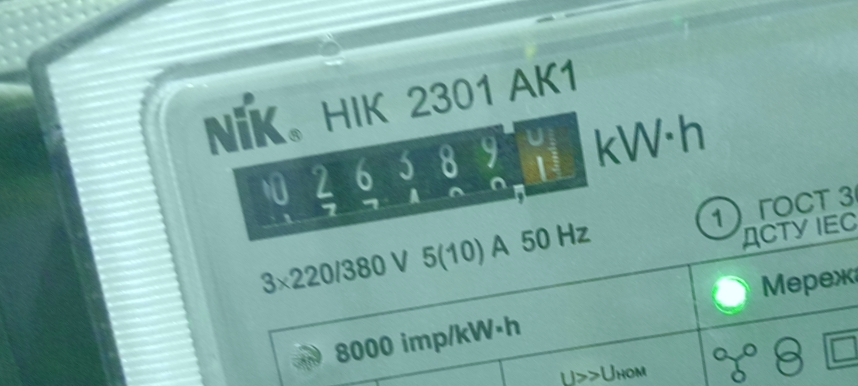0: (264, 166, 293, 208), (525, 125, 546, 148)
1: (533, 151, 550, 184)
2: (308, 159, 337, 201)
3: (394, 146, 416, 183)
6: (351, 152, 375, 194)
8: (436, 140, 462, 180)
9: (479, 133, 501, 169)
screen: (216, 97, 606, 255)
